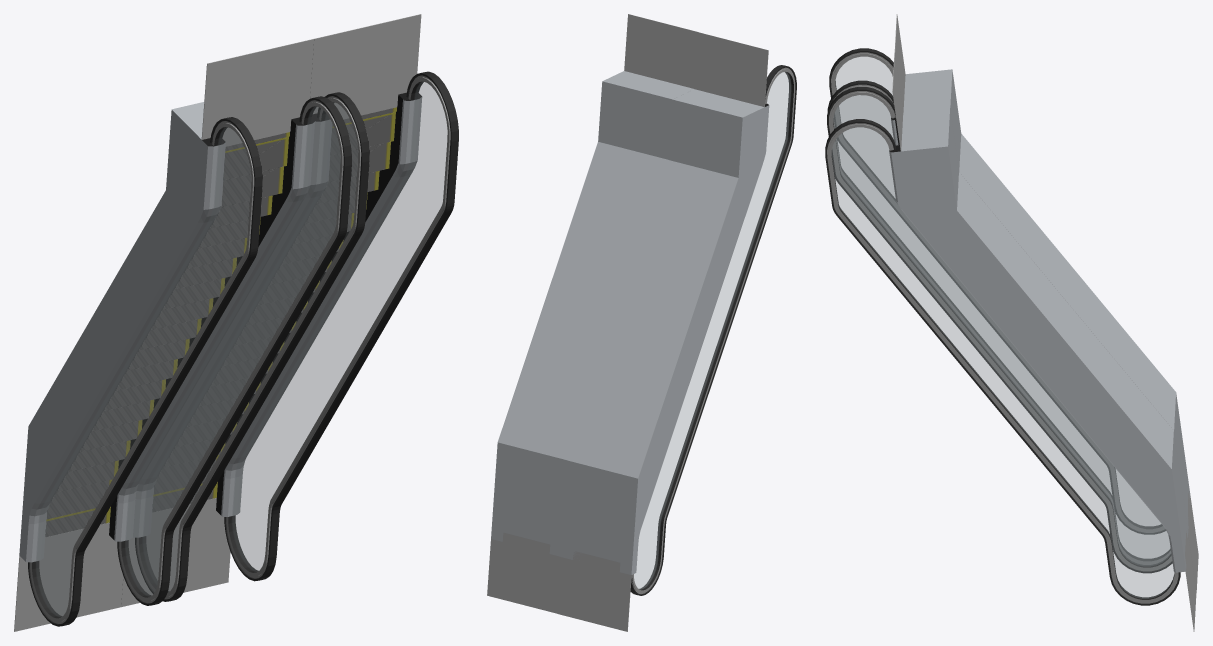
The model's file is Thang cuốn đôi (nổi).glb.
3 views of the same model, side by side, from view 1: azimuth 30°, elevation 25°; view 2: azimuth 150°, elevation 25°; view 3: azimuth 270°, elevation 25° (orthographic). The views are drawn at different scales.
Parts seen in each view (by area): view 1: world; view 2: world; view 3: world.
Part boxes in pixels (box(x1,y1,x2,y2)): world: box(14, 14, 458, 631); world: box(487, 14, 796, 631); world: box(825, 14, 1198, 631).
Size of the model in its own units: 267 by 836 by 526.
7 materials, 1 textured.
